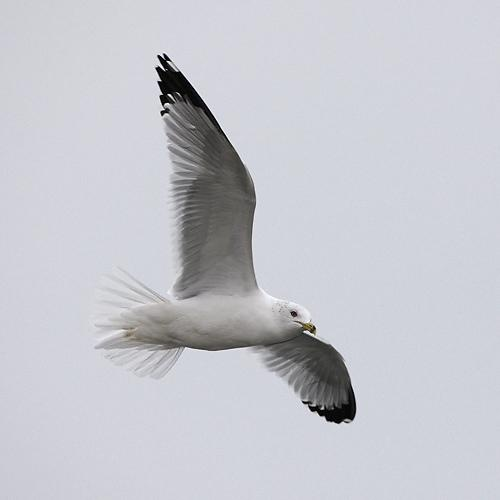bird: (97, 52, 362, 420)
